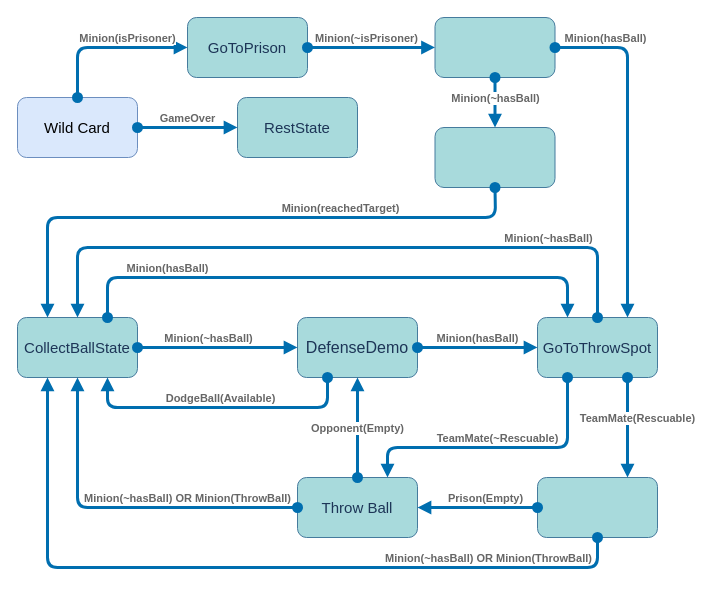
This 712x597 diagram has some shape labels left out. The box of each missing label's shape, as (x1, y1, x2, y2) in pixels:
GoHome: (434, 126, 555, 188)
LeavePrison: (434, 16, 555, 78)
Rescue: (536, 476, 658, 538)
